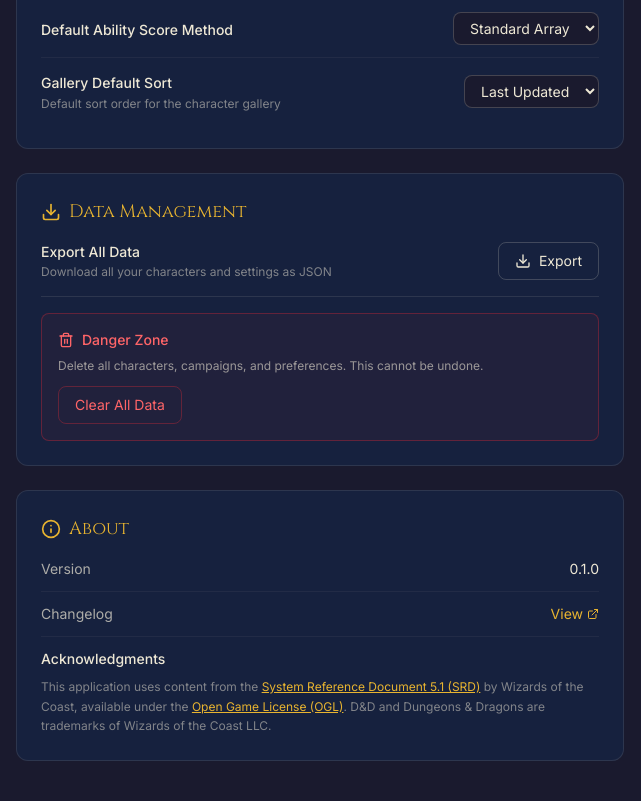
Test: SettingsPage › Clear All Data confirmation flow › should show confirmation dialog when "Clear All Data" is clicked
(page scrolled)
What coordinates should you click on to do the following:
click the button with test id "clear-data-btn"
I would click on:
 (120, 405)
Its box is [58, 386, 182, 424].
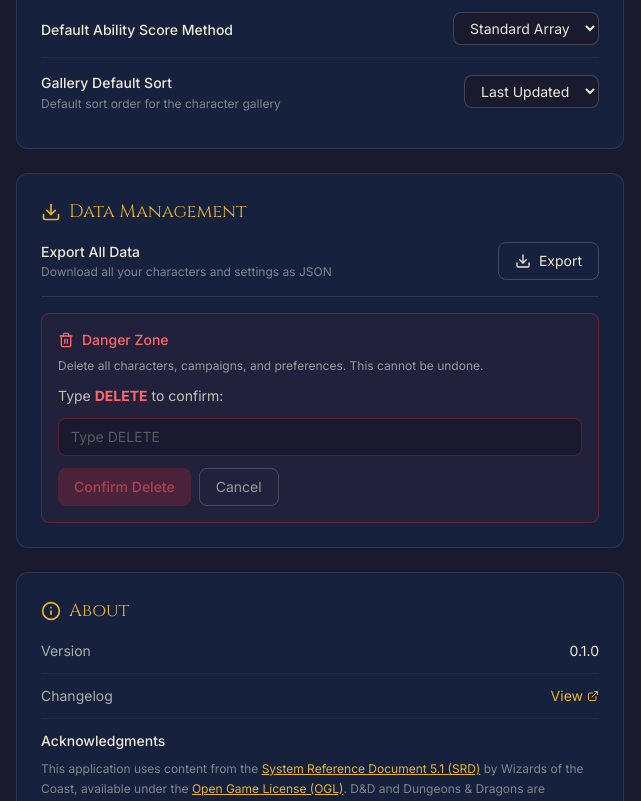
Expected: the field with test id "clear-confirmation-input" is shown, [58, 418, 582, 456]
Expected: the text "Type DELETE to confirm:" is shown, [58, 387, 223, 404]
